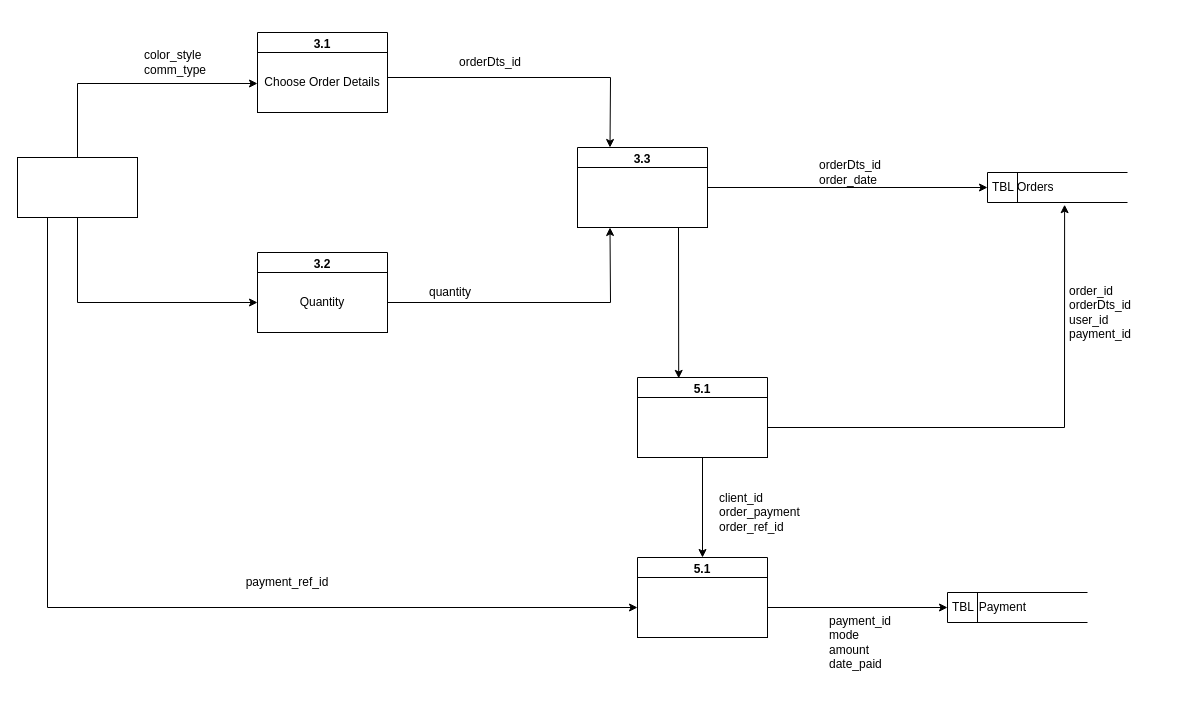
Image size: 1185x704. Some labels were removed from this diagram. Here are the shapes that lost their labels. From the top down, the box of each, then its label:
(16, 156, 138, 218): Client
(576, 166, 708, 228): Summary of custom order
(636, 396, 768, 458): Check out
(636, 576, 768, 638): Payment
